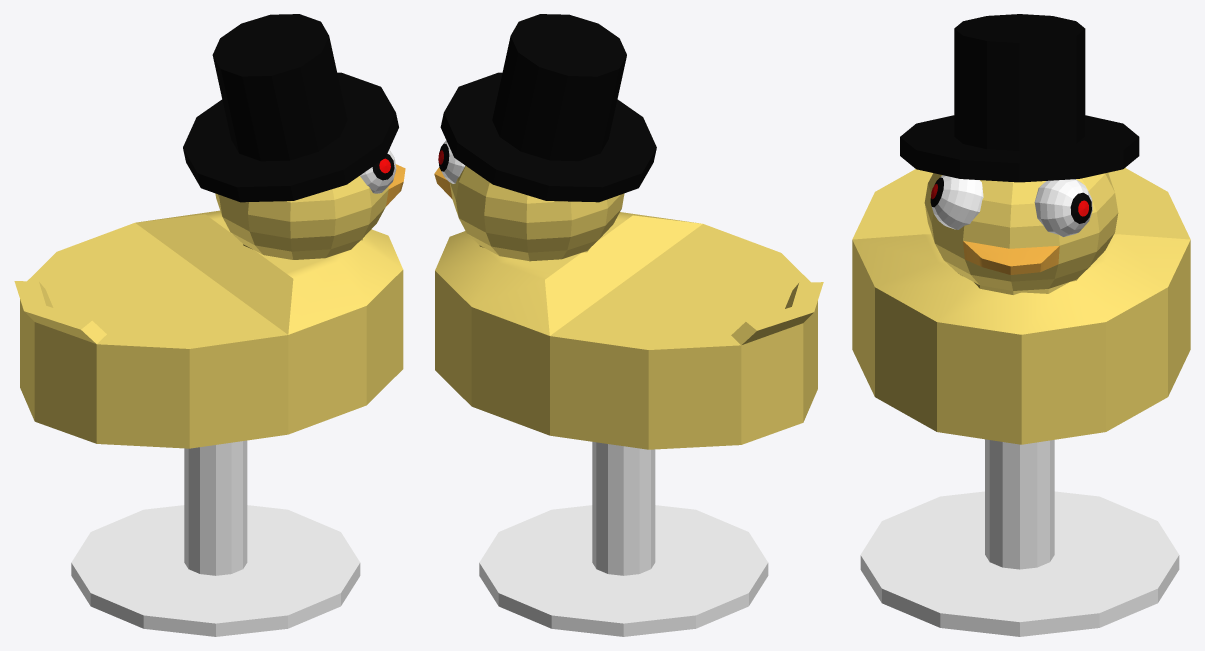
Rendered from Rubber DUck.fbx.
The picture shows the model from 3 angles, left to right: view 1: azimuth 30°, elevation 25°; view 2: azimuth 150°, elevation 25°; view 3: azimuth 270°, elevation 25°; orthographic projection. The views are drawn at different scales.
Visible parts, largest first — view 1: polySurface2, pCylinder2, pCylinder4; view 2: polySurface2, pCylinder2, pCylinder4; view 3: polySurface2, pCylinder2, pCylinder4.
Boxes of the visible parts, bbox=[...] form: polySurface2: bbox=[14, 149, 405, 448]; pCylinder2: bbox=[71, 440, 360, 636]; pCylinder4: bbox=[183, 14, 398, 202]; polySurface2: bbox=[434, 140, 823, 449]; pCylinder2: bbox=[479, 442, 768, 636]; pCylinder4: bbox=[440, 14, 656, 202]; polySurface2: bbox=[852, 168, 1190, 444]; pCylinder2: bbox=[860, 439, 1179, 636]; pCylinder4: bbox=[900, 14, 1139, 182].
Bounding box in the file's own units: 3.99 × 5.35 × 2.81.
